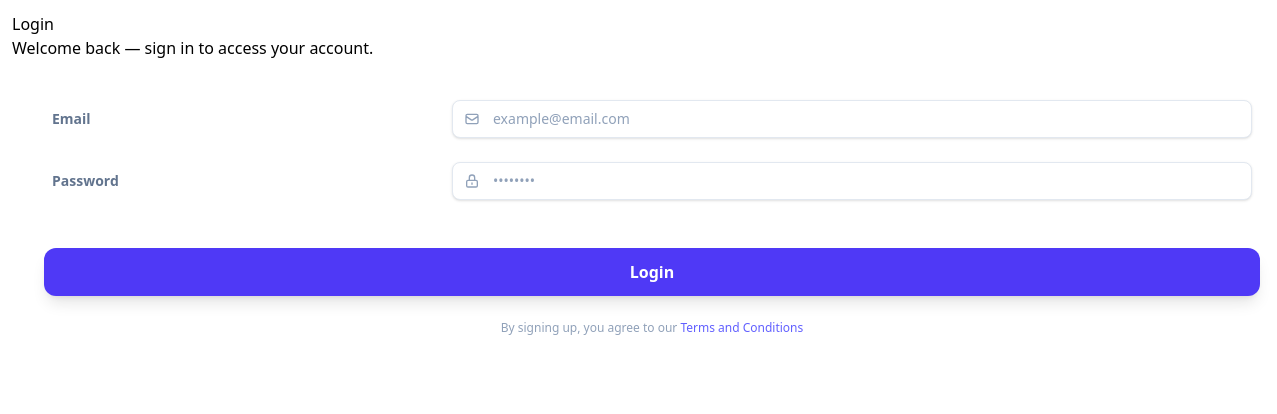
Test: LoginPage Component › should handle server errors
Type "test@example.com" into the field labelled "Email". click: (852, 119)
box: [452,100,1252,138]
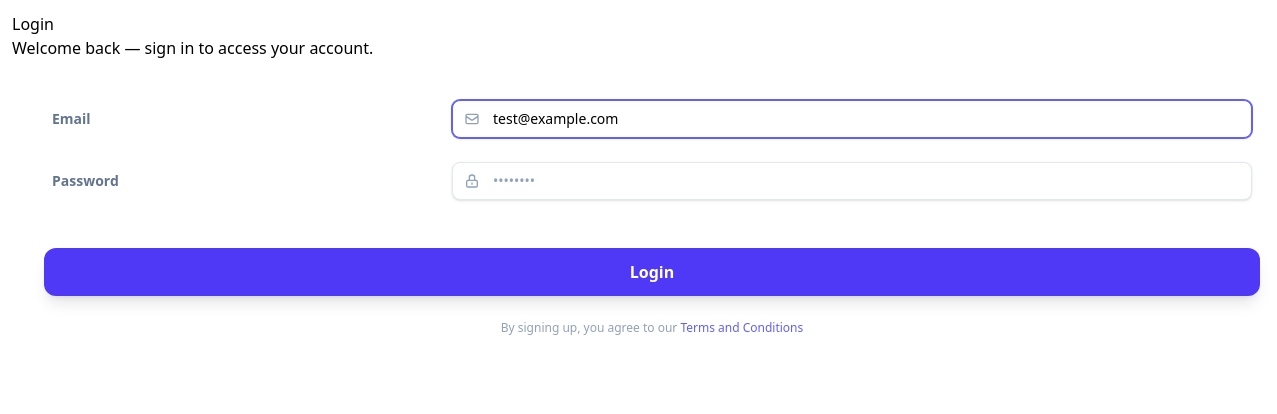
Type "wrongpassword" into the password field labelled "Password". click: (852, 181)
box: [452,162,1252,200]
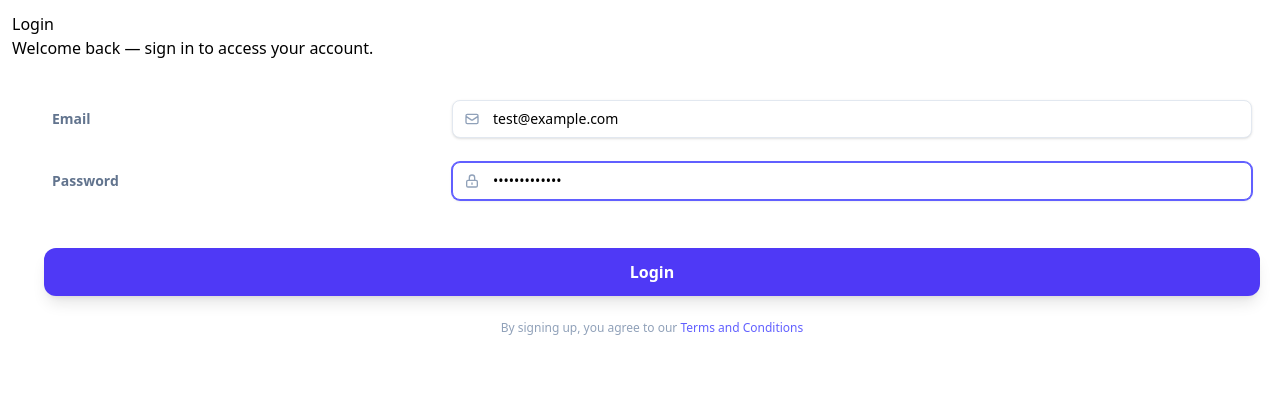
Click the button "Login". click: (652, 272)
box: [44,248,1260,296]
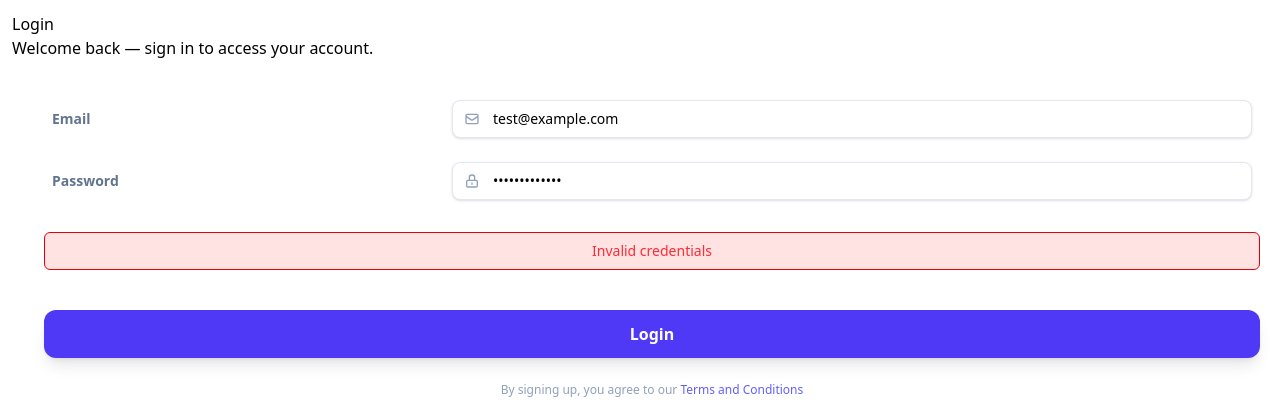
Now the text "Invalid credentials" is shown, box [44,232,1260,270]
